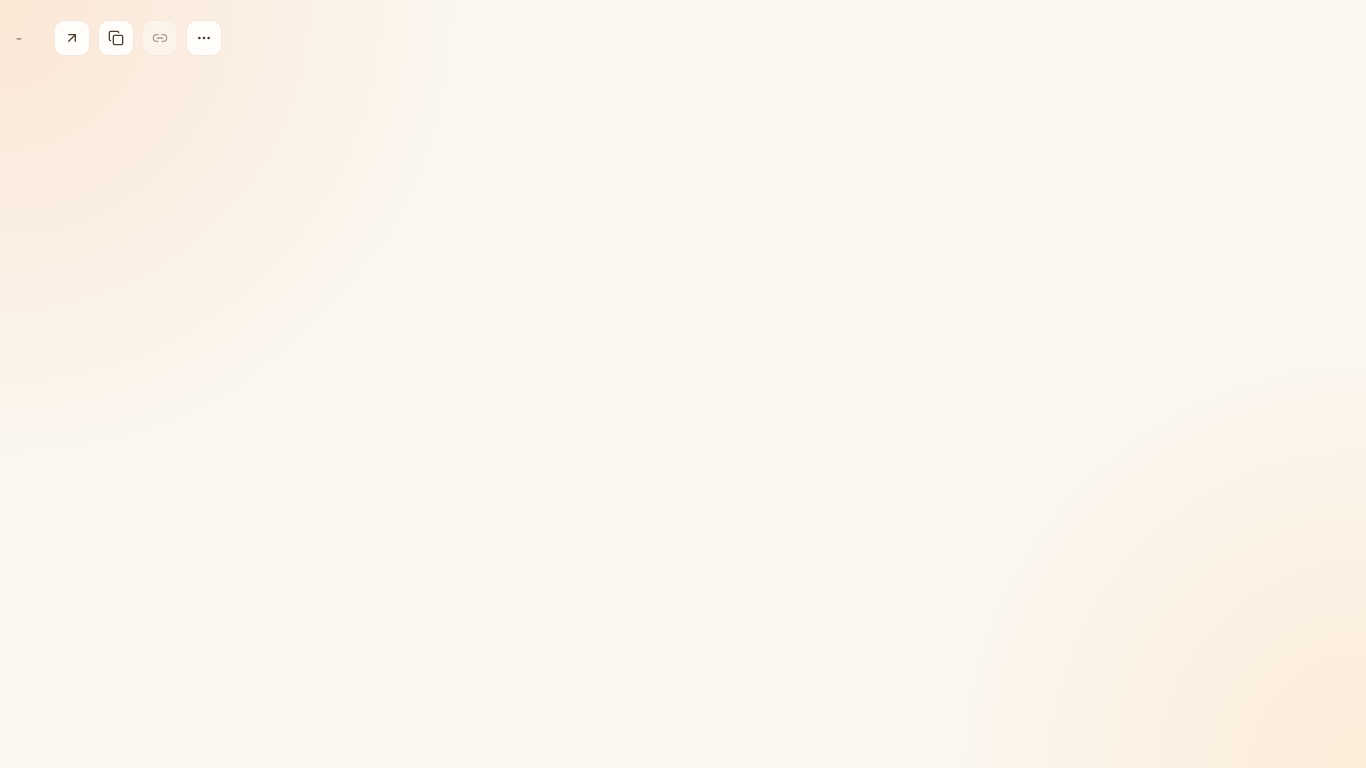
it: DocumentTableRowActions › opens the share modal without enabling sharing and reflects the current off state
Click the button named "More actions": (204,38) [186,20,222,56]
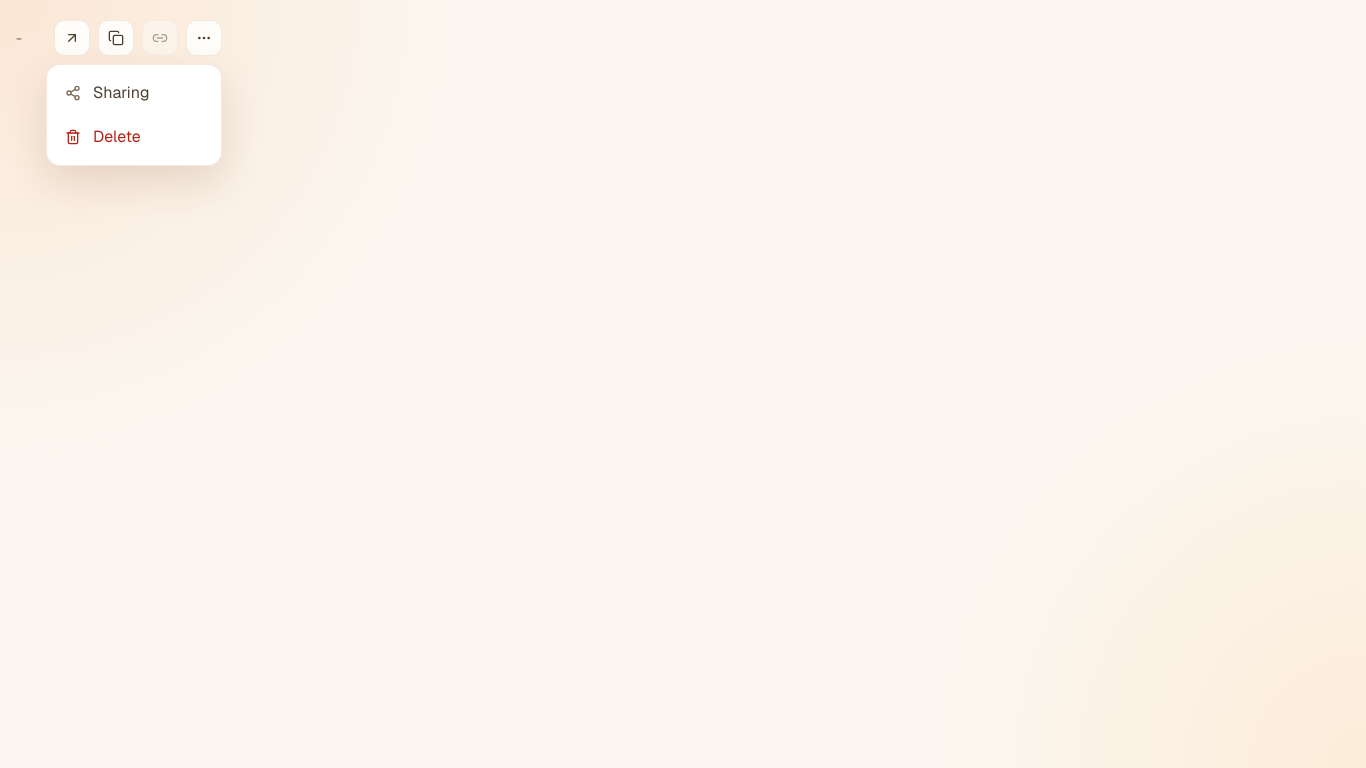
Click the button "Sharing": (134,93) [53,71,215,115]
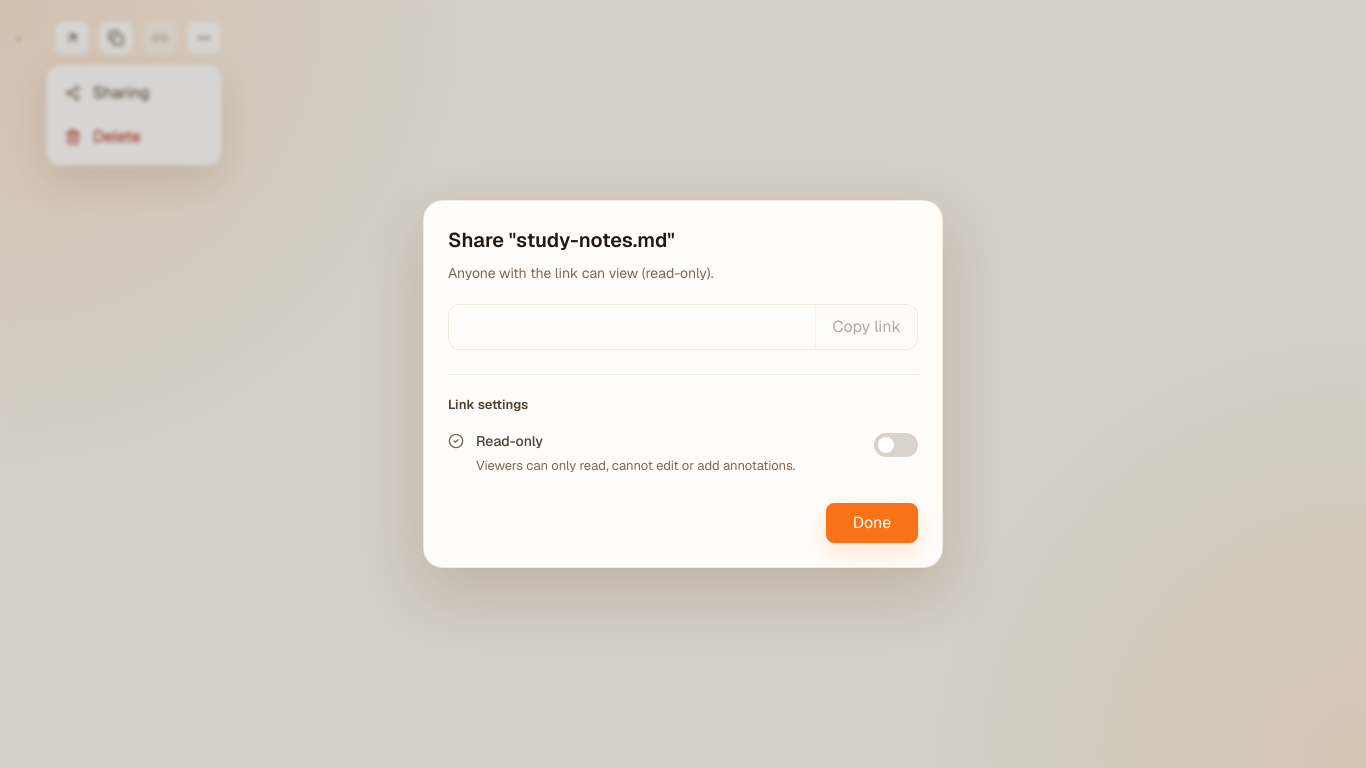
Check: the heading "Share \"study-notes.md\"" is shown, box [448,227,675,253]
Check: the text "Link settings" is shown, box [448,396,528,413]
